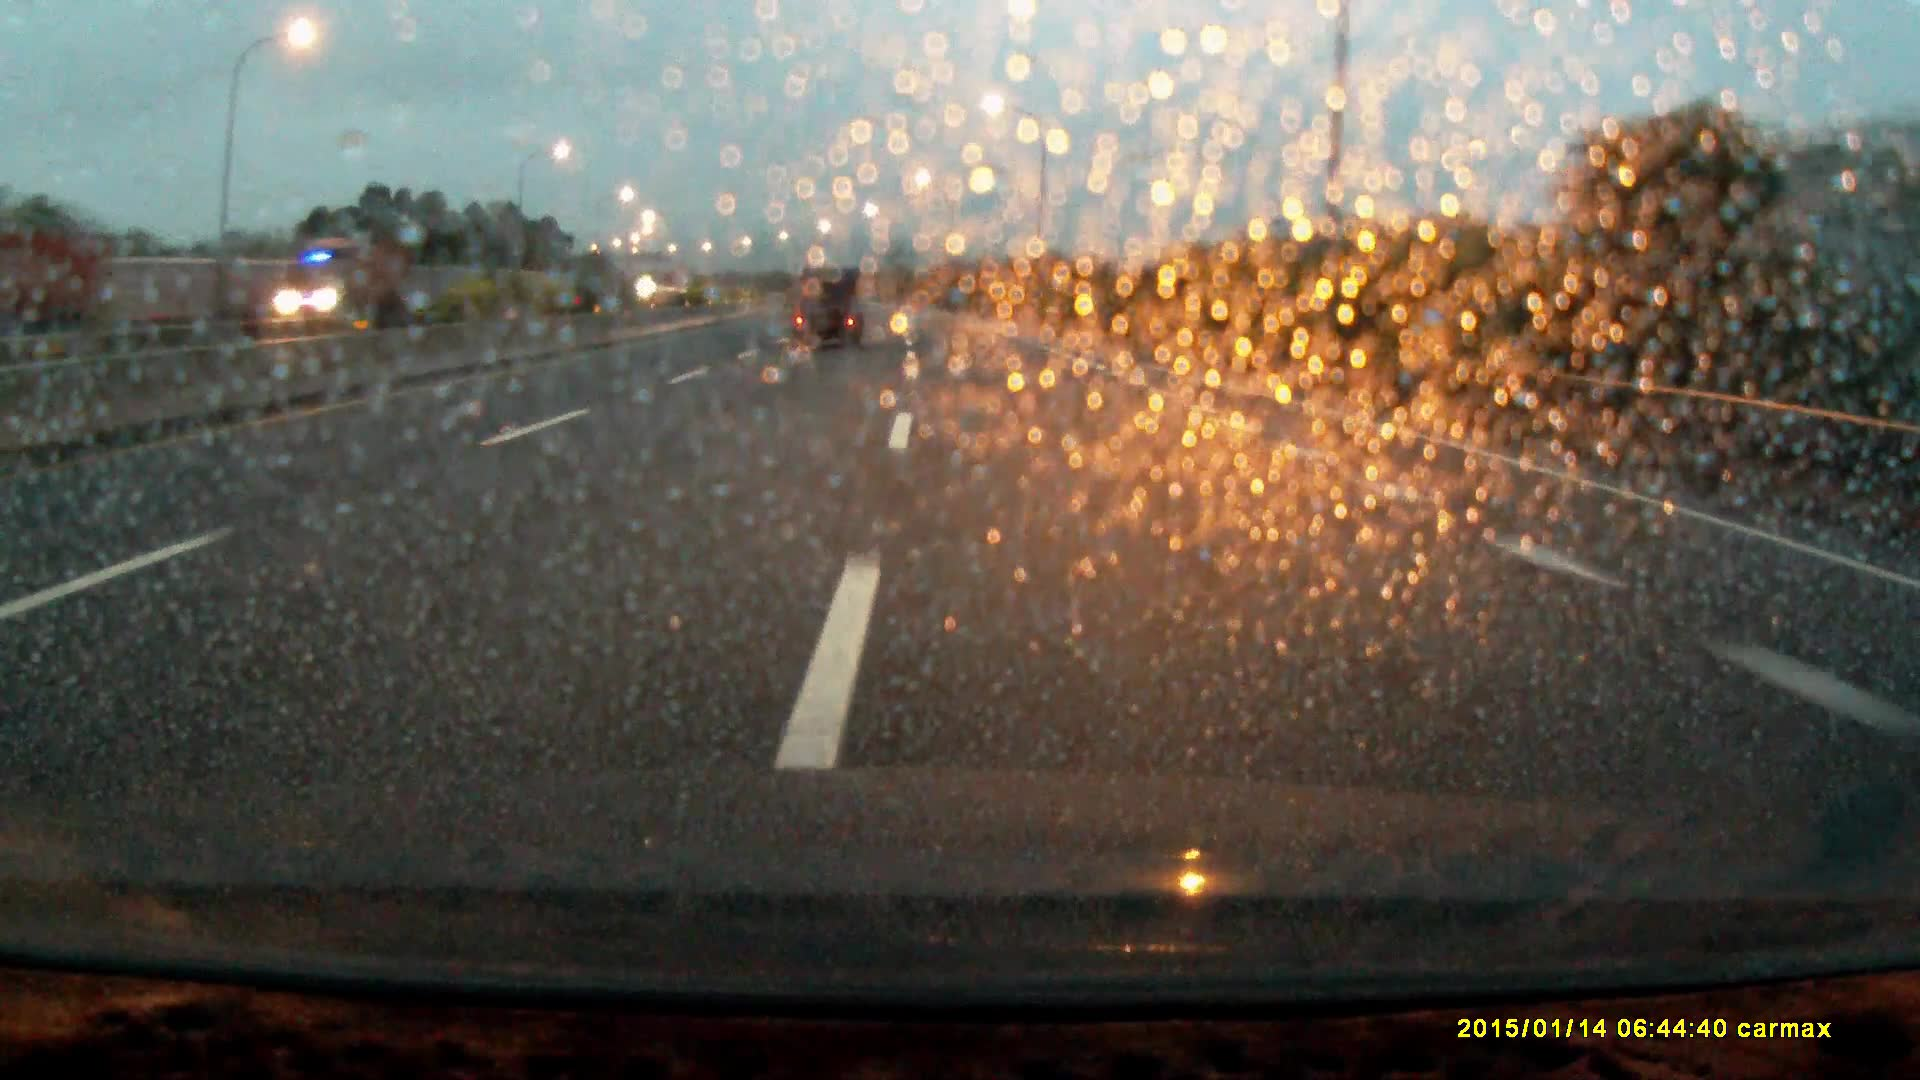vehicle: (272, 243, 411, 322), (786, 272, 865, 357)
